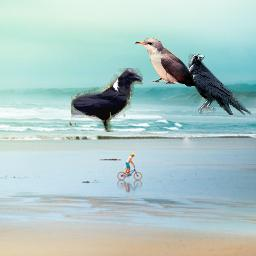Crow: (71, 68, 143, 132), (188, 54, 252, 115)
Cuckoo: (135, 38, 198, 87)
